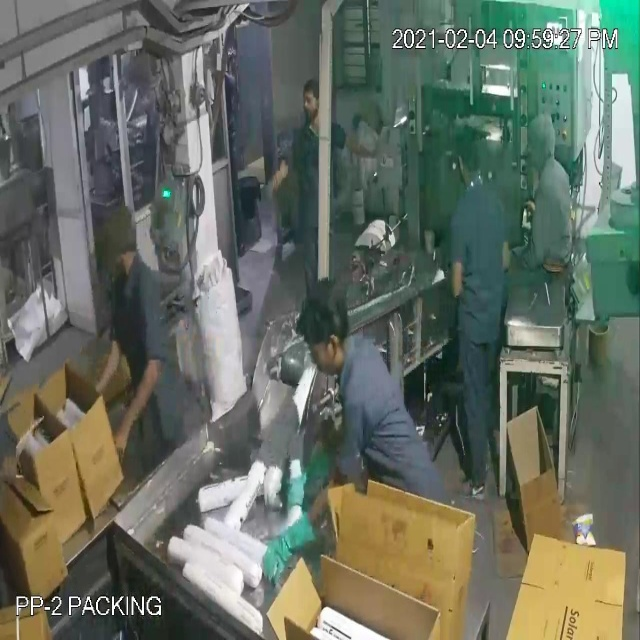Guantes: (251, 505, 323, 595), (279, 433, 336, 509)
Sin_guantes: (107, 341, 172, 460), (86, 320, 129, 401), (336, 121, 394, 174), (261, 152, 305, 204)
